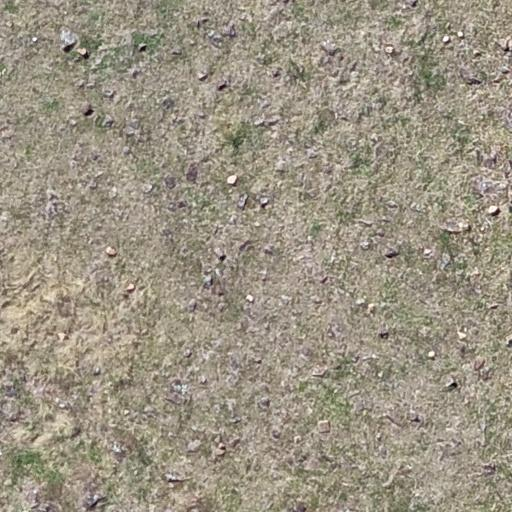stone: (20, 482, 46, 508), (58, 30, 78, 52), (83, 492, 107, 510), (459, 68, 483, 86), (206, 30, 224, 48), (111, 443, 127, 463), (164, 471, 190, 483), (319, 40, 338, 56), (221, 23, 237, 39), (225, 173, 242, 188), (212, 442, 227, 458), (168, 199, 188, 211), (163, 174, 177, 190), (409, 410, 425, 424), (186, 439, 202, 453), (238, 240, 253, 254), (317, 419, 331, 434), (257, 396, 271, 410), (472, 357, 486, 371), (213, 247, 226, 261), (101, 114, 114, 128), (69, 425, 82, 439), (161, 97, 175, 110), (257, 196, 272, 208), (237, 194, 248, 210), (384, 248, 400, 259), (444, 377, 458, 389), (82, 103, 94, 117), (312, 366, 326, 378), (305, 147, 319, 159), (102, 88, 116, 100), (499, 38, 511, 52), (482, 462, 496, 474), (107, 186, 119, 200), (275, 159, 287, 172), (229, 436, 242, 448), (187, 298, 197, 312), (326, 325, 336, 339), (252, 117, 266, 127), (410, 202, 424, 212), (488, 205, 500, 216), (263, 245, 275, 256), (197, 70, 208, 82), (217, 80, 228, 92), (130, 68, 142, 79), (142, 183, 154, 194), (258, 99, 270, 110), (202, 276, 213, 288), (76, 48, 89, 58), (56, 332, 68, 342), (378, 330, 390, 340), (270, 68, 282, 78), (359, 240, 371, 250), (272, 428, 282, 440), (367, 302, 376, 314), (386, 201, 398, 210), (125, 283, 135, 293), (106, 246, 116, 256), (457, 330, 467, 340), (92, 366, 102, 376), (228, 215, 238, 225), (182, 348, 192, 358), (198, 375, 208, 385), (122, 146, 132, 156), (170, 48, 182, 56), (488, 302, 500, 310), (384, 45, 394, 54), (138, 43, 148, 52), (458, 222, 468, 231), (427, 350, 436, 359), (319, 275, 328, 284), (356, 298, 366, 306), (500, 66, 510, 74), (423, 248, 433, 256), (442, 35, 450, 44), (293, 436, 302, 444), (244, 294, 254, 301), (254, 357, 262, 365), (457, 30, 464, 38), (31, 36, 38, 43)
